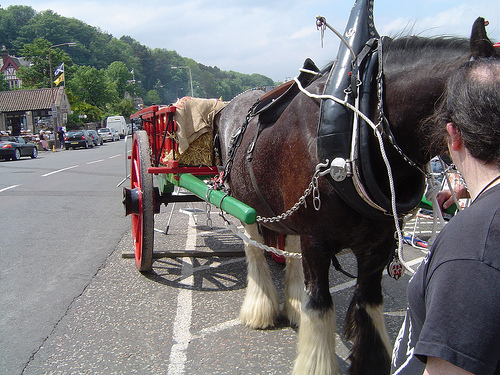horse: (195, 14, 500, 375)
